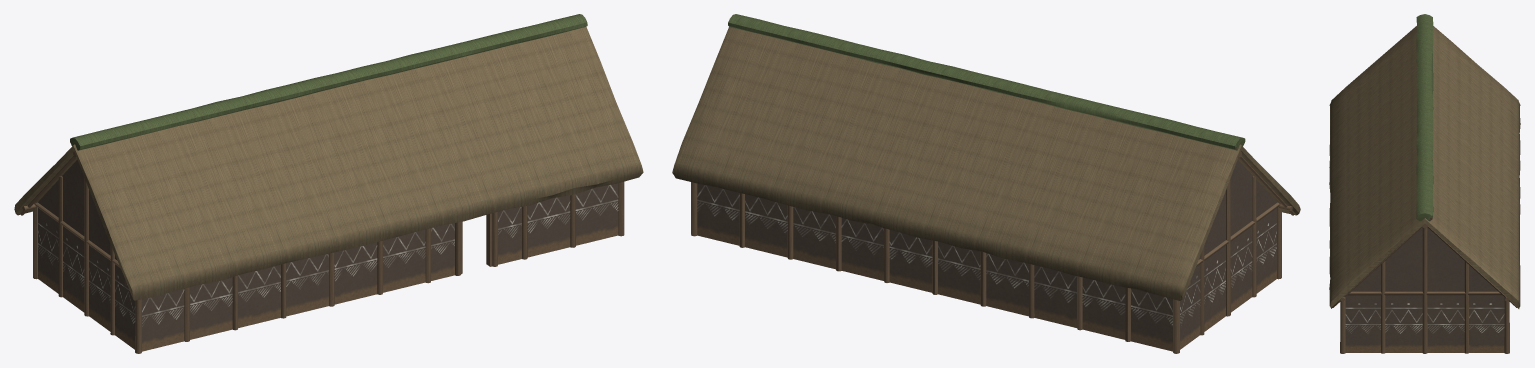
Rendered from house_004_pattern.glb.
3 renders of one model, left to right at view 1: azimuth 30°, elevation 25°; view 2: azimuth 150°, elevation 25°; view 3: azimuth 270°, elevation 25°, orthographic. The views are drawn at different scales.
Parts seen in each view (by area): view 1: Roof, Wall, Frame; view 2: Roof, Wall, Frame; view 3: Roof, Wall, Frame.
Part boxes in pixels (x1,y1,x2,y2): Roof: [14, 14, 643, 300]; Wall: [38, 159, 618, 351]; Frame: [20, 151, 624, 353]; Roof: [672, 14, 1300, 300]; Wall: [697, 160, 1276, 351]; Frame: [691, 151, 1294, 353]; Roof: [1329, 14, 1520, 308]; Wall: [1345, 227, 1504, 352]; Frame: [1333, 223, 1516, 353].
Size of the model in its own units: 15.9 by 5.35 by 6.4.
4 materials, 3 textured.
